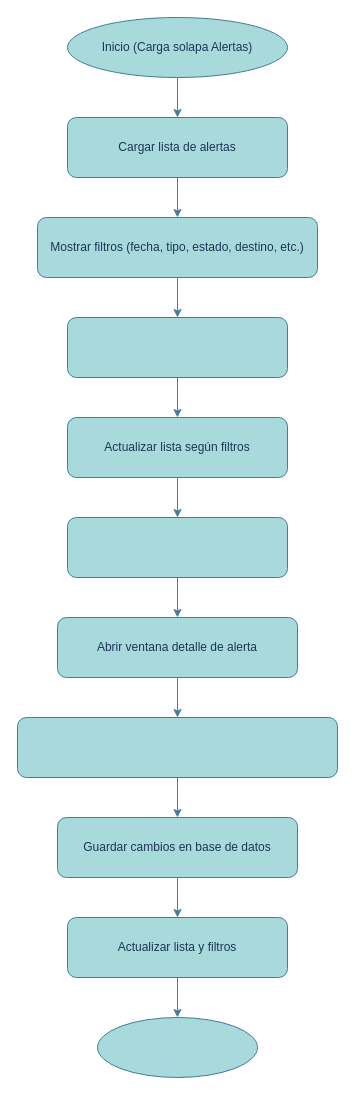
Image size: 355x1095. Some labels were removed from this diagram. The centre of each missing label's shape, as x and y in pixels:
"Acciones: Marcar como leída, Ver adjunto, Responder, Eliminar" belongs at point 177,747.
"Fin" belongs at point 177,1047.
"Usuario aplica filtros/búsqueda" belongs at point 177,347.
"Usuario selecciona alerta" belongs at point 177,547.
